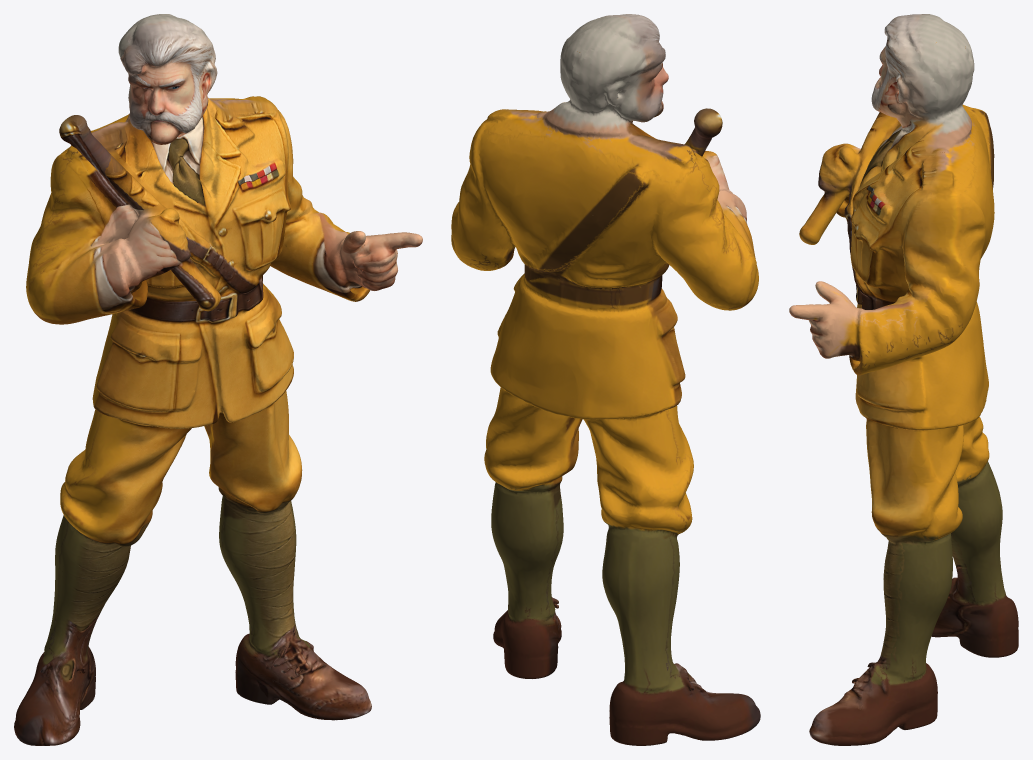
The model's file is sus-mustard.glb.
The picture shows the model from 3 angles, left to right: view 1: azimuth 30°, elevation 25°; view 2: azimuth 150°, elevation 25°; view 3: azimuth 270°, elevation 25°; orthographic projection. The views are drawn at different scales.
Visible parts, largest first — view 1: sus-mustard; view 2: sus-mustard; view 3: sus-mustard.
Boxes of the visible parts, left/top/right/bottom form: sus-mustard: left=14, top=14, right=422, bottom=745; sus-mustard: left=451, top=14, right=760, bottom=745; sus-mustard: left=789, top=14, right=1018, bottom=745.
Size of the model in its own units: 0.9925 by 1.97 by 0.625.
Materials: 1 (1 with a texture image).
